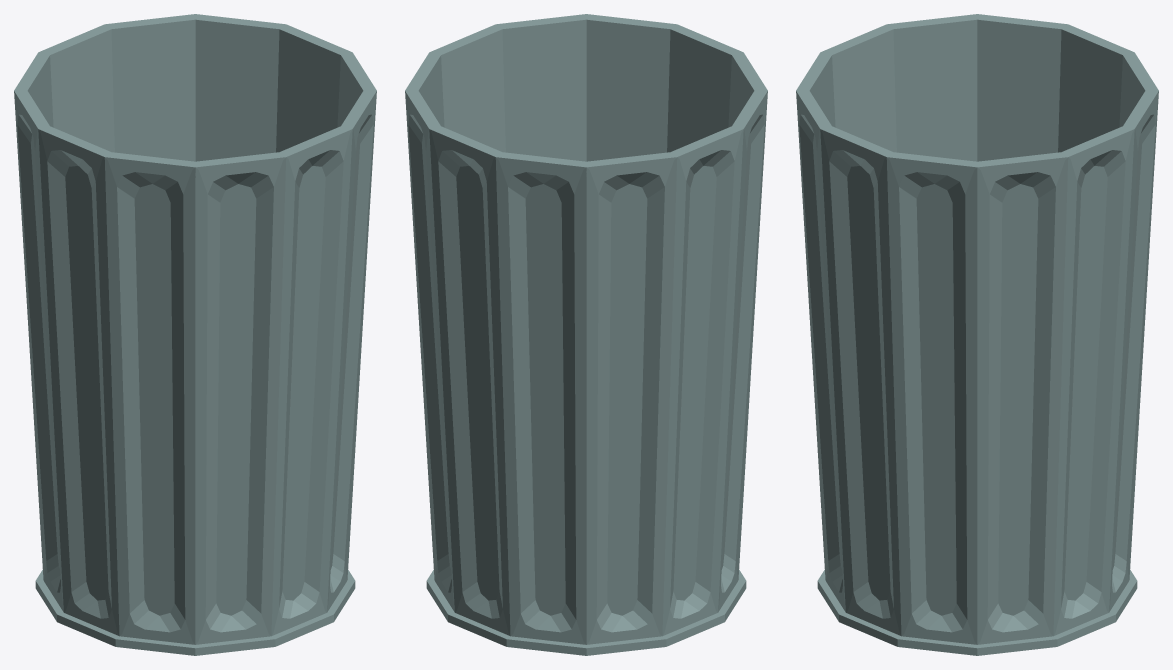
File: coloured_Binbody.fbx
3 renders of one model, left to right at view 1: azimuth 30°, elevation 25°; view 2: azimuth 150°, elevation 25°; view 3: azimuth 270°, elevation 25°, orthographic.
Visible parts, largest first — view 1: Bin_Body1; view 2: Bin_Body1; view 3: Bin_Body1.
Part boxes in pixels (<box>): Bin_Body1: <box>14,14,376,655</box>; Bin_Body1: <box>405,14,767,655</box>; Bin_Body1: <box>796,14,1158,655</box>.
Bounding box in the file's own units: 1 × 1.51 × 1.
